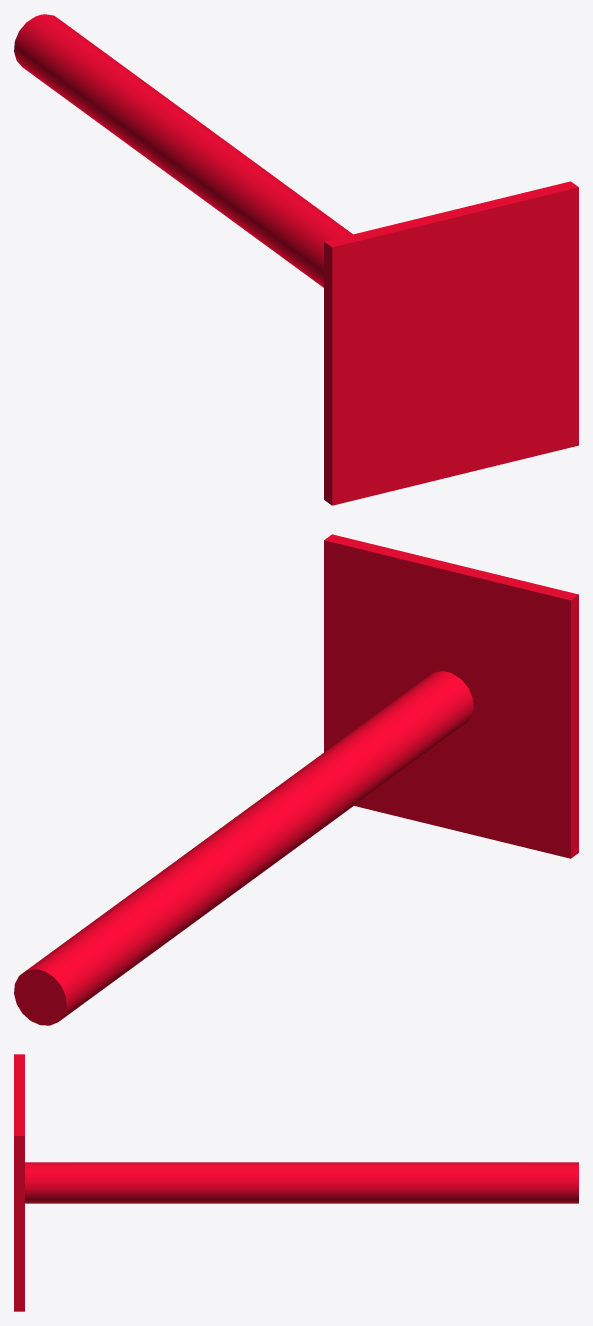
File: forcesensor_stand.dae
The picture shows the model from 3 angles, top to bottom: view 1: azimuth 30°, elevation 25°; view 2: azimuth 150°, elevation 25°; view 3: azimuth 270°, elevation 25°; orthographic projection. The views are drawn at different scales.
Visible parts, largest first — view 1: mesh_1_forcesensor_stand; view 2: mesh_1_forcesensor_stand; view 3: mesh_1_forcesensor_stand.
Boxes of the visible parts, x1,y1,x2,y2 form: mesh_1_forcesensor_stand: (14, 14, 578, 505); mesh_1_forcesensor_stand: (14, 534, 578, 1025); mesh_1_forcesensor_stand: (14, 1054, 578, 1311).
Bounding box in the file's own units: 0.35 × 1.02 × 0.35.
